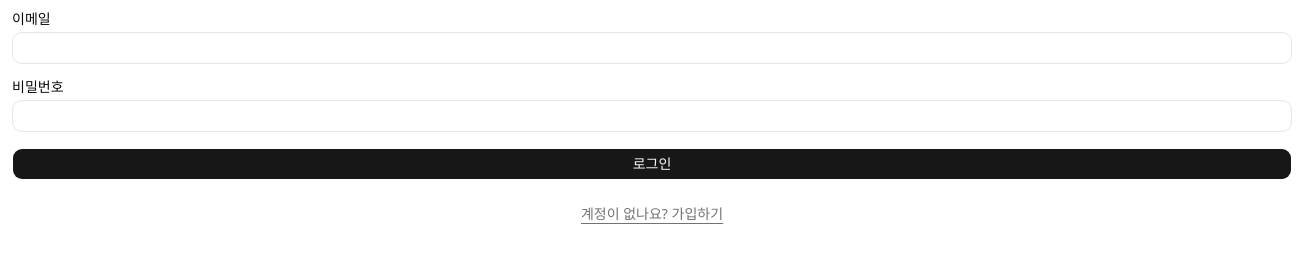
Test: AuthForm login mode › shows the generic message when the request throws
This screenshot has width=1304, height=277.
Type "a@test.local" into the field labelled "이메일".
click(652, 48); type("a@test.local")  # box [12,32,1292,64]
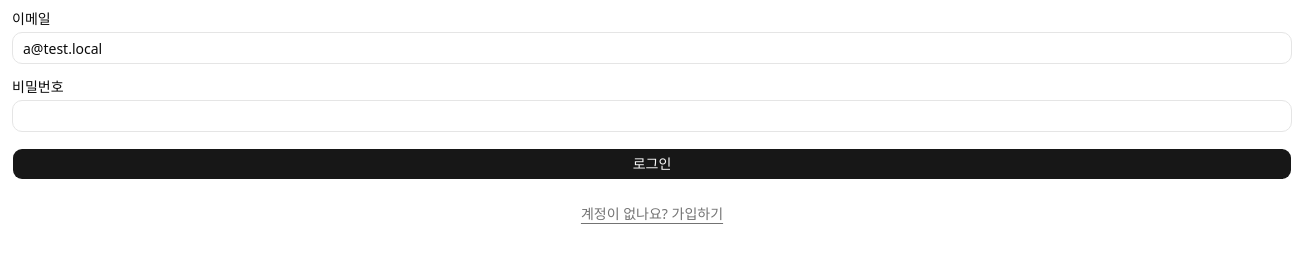
Type "password123" into the password field labelled "비밀번호".
click(652, 116); type("password123")  # box [12,100,1292,132]
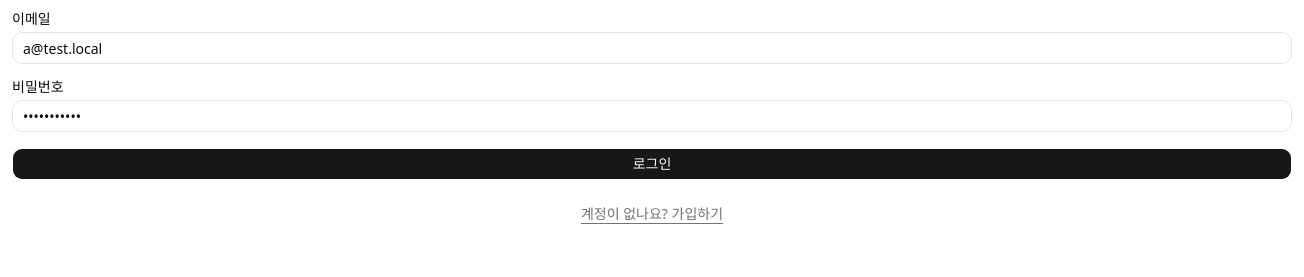
Click the button "로그인".
click(652, 164)  # box [12,148,1292,180]
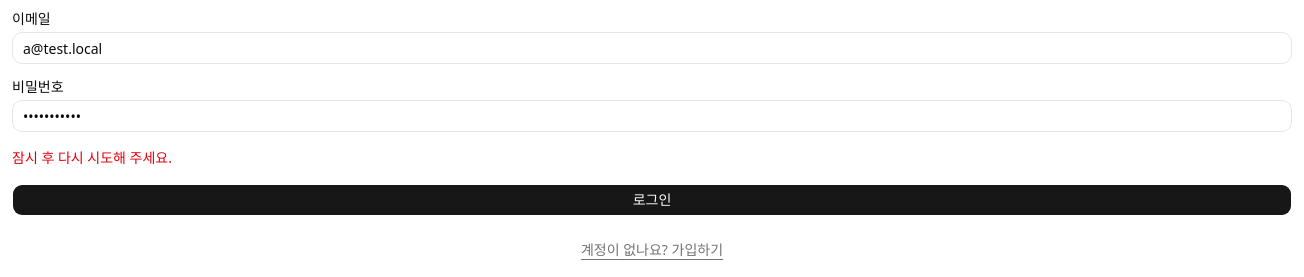
Now the text "잠시 후 다시 시도해 주세요." is shown, box [12,148,172,167]
